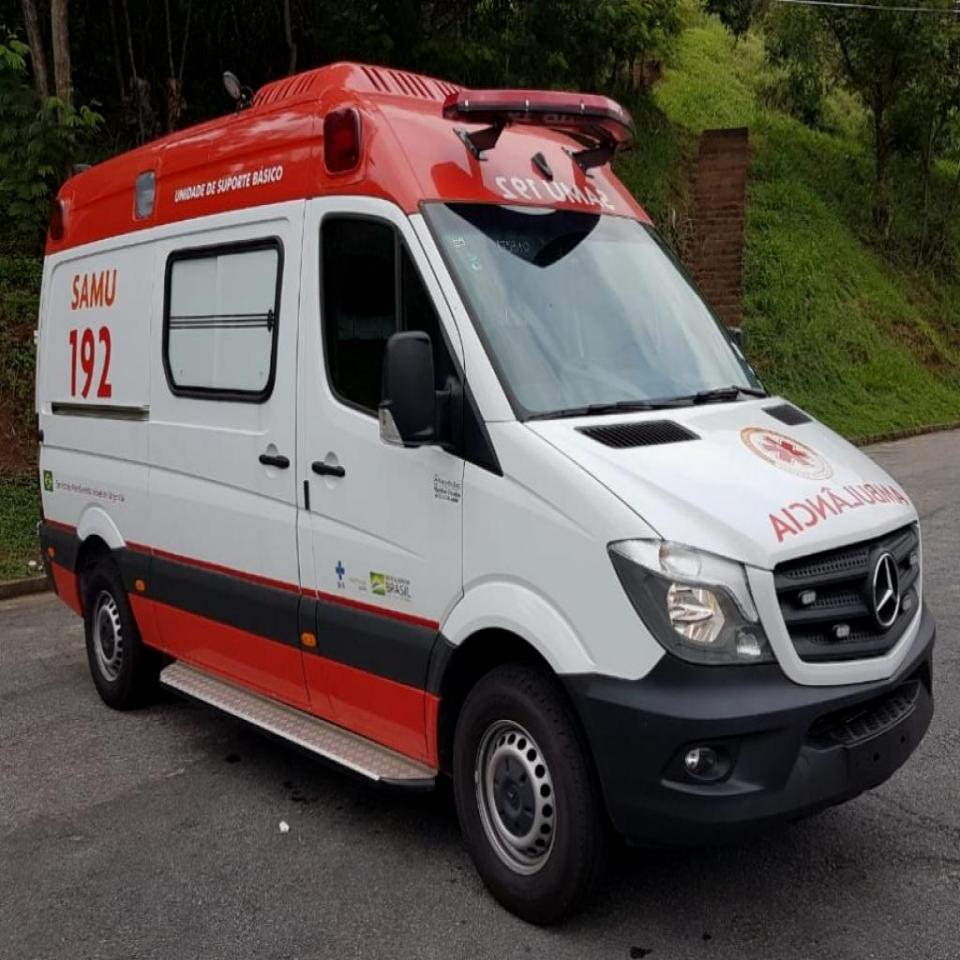ambulancia: (29, 59, 940, 934)
